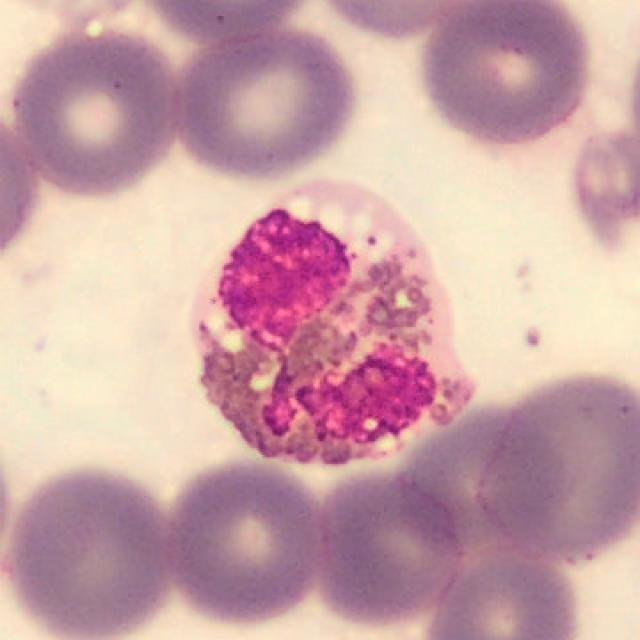Eosinofilo: (192, 180, 475, 469)
